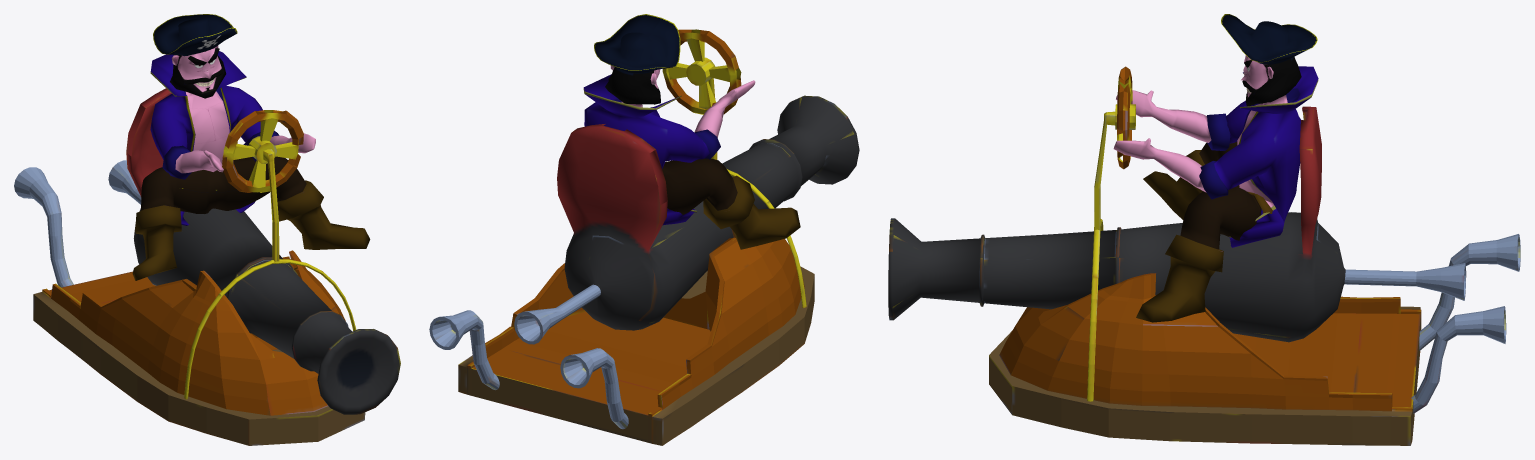
The model's file is pirataGiroDER_000244.obj.
3 renders of one model, left to right at view 1: azimuth 30°, elevation 25°; view 2: azimuth 150°, elevation 25°; view 3: azimuth 270°, elevation 25°, orthographic. The views are drawn at different scales.
Parts seen in each view (by area): view 1: carro_pirata, Pirata_PirataH; view 2: carro_pirata, Pirata_PirataH; view 3: carro_pirata, Pirata_PirataH.
Boxes of the visible parts, <box> form: carro_pirata: <box>14,88,400,445</box>; Pirata_PirataH: <box>132,14,370,280</box>; carro_pirata: <box>429,29,859,445</box>; Pirata_PirataH: <box>583,14,800,249</box>; carro_pirata: <box>888,66,1520,445</box>; Pirata_PirataH: <box>1113,14,1318,322</box>.
Bounding box in the file's own units: 5.66 × 7.73 × 12.1.
